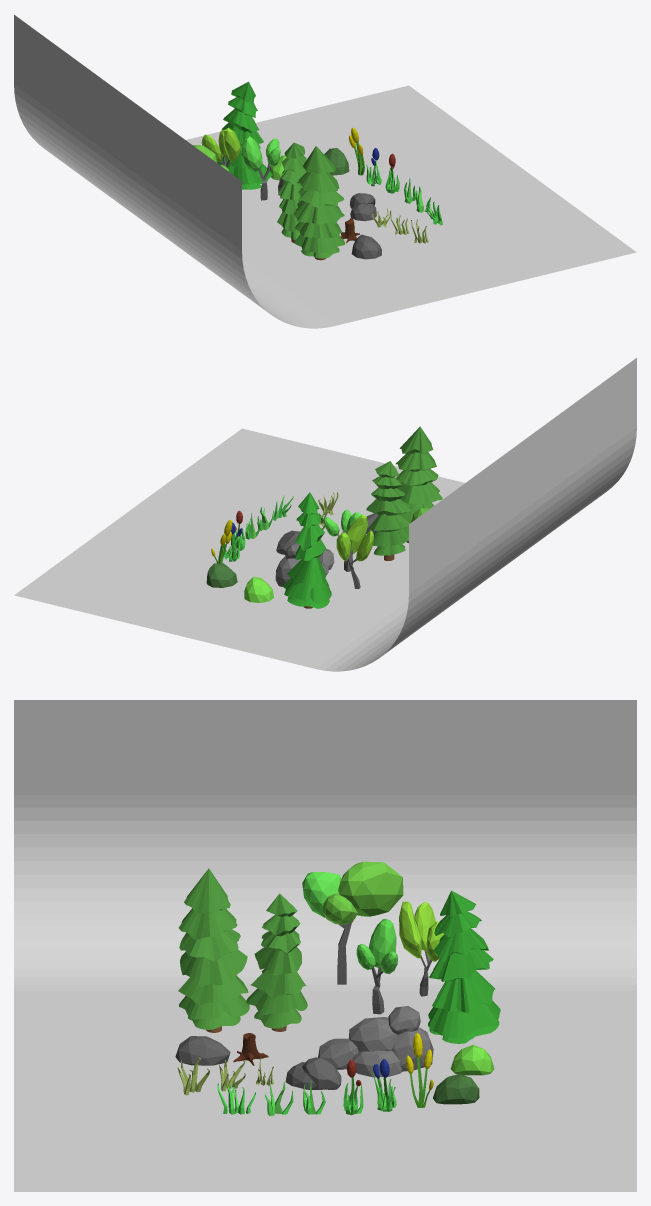
The model's file is Forest.fbx.
3 views of the same model, one above another, from view 1: azimuth 30°, elevation 25°; view 2: azimuth 150°, elevation 25°; view 3: azimuth 270°, elevation 25° (orthographic). The views are drawn at different scales.
Parts seen in each view (by area): view 1: Plane, Circle, Circle.002, Circle.001, Cube.004, Cube.001, Icosphere; view 2: Plane, Circle.002, Circle.001, Circle, Cube.001, Icosphere.005, Icosphere.002, Icosphere.001, Cube.004; view 3: Plane, Circle, Circle.002, Circle.001, Cube, Icosphere.005, Cube.001, Cube.004, Icosphere, Icosphere.002, Icosphere.001, Icosphere.008 (+1 smaller).
Part boxes in pixels (left/top/right/bottom): Plane: left=14, top=15, right=636, bottom=328; Circle: left=293, top=146, right=345, bottom=260; Circle.002: left=217, top=81, right=272, bottom=189; Circle.001: left=277, top=142, right=306, bottom=242; Cube.004: left=241, top=136, right=280, bottom=200; Cube.001: left=201, top=127, right=240, bottom=167; Icosphere: left=351, top=234, right=381, bottom=259; Plane: left=14, top=358, right=636, bottom=671; Circle.002: left=282, top=492, right=331, bottom=608; Circle.001: left=366, top=461, right=411, bottom=560; Circle: left=395, top=426, right=442, bottom=542; Cube.001: left=336, top=515, right=373, bottom=588; Icosphere.005: left=275, top=542, right=334, bottom=586; Icosphere.002: left=206, top=563, right=237, bottom=587; Icosphere.001: left=244, top=576, right=273, bottom=602; Cube.004: left=323, top=510, right=367, bottom=571; Plane: left=14, top=700, right=636, bottom=1191; Circle: left=178, top=868, right=249, bottom=1032; Circle.002: left=428, top=890, right=500, bottom=1043; Circle.001: left=246, top=893, right=307, bottom=1031; Cube: left=302, top=861, right=403, bottom=984; Icosphere.005: left=318, top=1006, right=433, bottom=1077; Cube.001: left=399, top=901, right=444, bottom=996; Cube.004: left=356, top=919, right=397, bottom=1014; Icosphere: left=175, top=1036, right=230, bottom=1065; Icosphere.002: left=433, top=1074, right=479, bottom=1104; Icosphere.001: left=450, top=1044, right=494, bottom=1075; Icosphere.008: left=302, top=1057, right=341, bottom=1089.
Size of the model in its own units: 2826 by 1245 by 2826.
